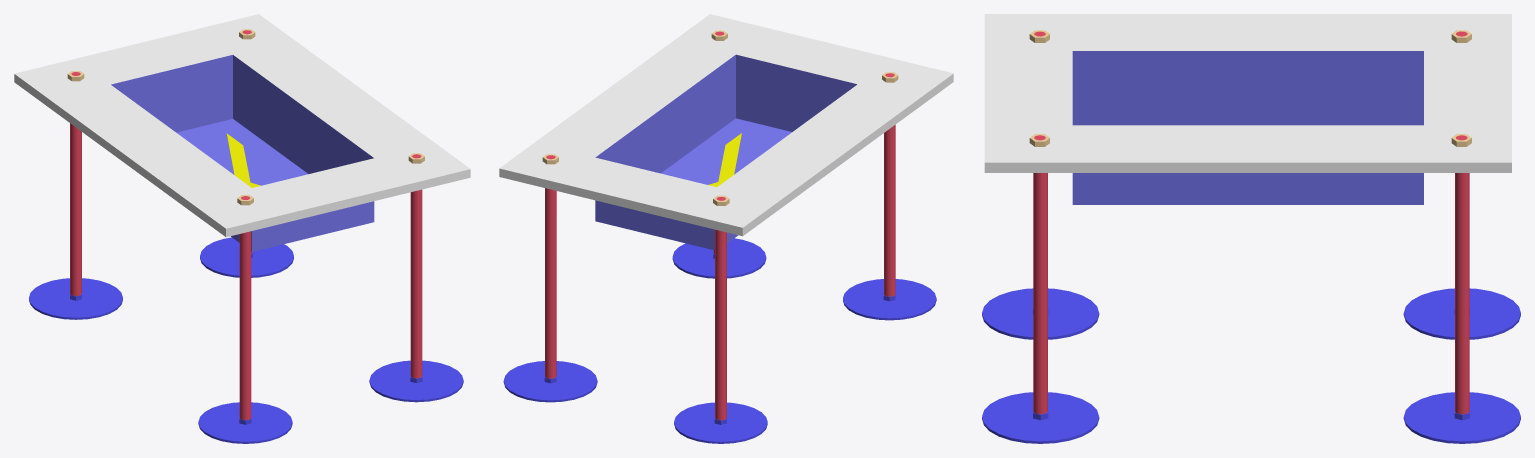
Rendered from marker_target_x.dae.
3 renders of one model, left to right at view 1: azimuth 30°, elevation 25°; view 2: azimuth 150°, elevation 25°; view 3: azimuth 270°, elevation 25°, orthographic. The views are drawn at different scales.
Parts seen in each view (by area): view 1: instance_1, instance_1_001, instance_5_004, instance_5_001, instance_5_010, instance_6, instance_6_001, instance_5_007, instance_6_003, instance_0; view 2: instance_1, instance_1_001, instance_5_004, instance_5_007, instance_5_010, instance_5_001, instance_6_003, instance_6_002, instance_6_001, instance_0; view 3: instance_1, instance_1_001, instance_5_007, instance_5_001, instance_5_004, instance_5_010, instance_6_002, instance_6.
Boxes of the visible parts, x1,y1,x2,y2 form: instance_1: (14, 14, 470, 237); instance_1_001: (111, 55, 374, 251); instance_5_004: (198, 402, 292, 443); instance_5_001: (369, 360, 463, 402); instance_5_010: (29, 278, 122, 319); instance_6: (410, 189, 422, 378); instance_6_001: (239, 231, 251, 420); instance_5_007: (200, 237, 293, 277); instance_6_003: (70, 123, 81, 295); instance_0: (226, 133, 260, 187); instance_1: (499, 14, 953, 236); instance_1_001: (595, 54, 856, 250); instance_5_004: (843, 279, 936, 320); instance_5_007: (503, 361, 597, 402); instance_5_010: (674, 402, 767, 443); instance_5_001: (672, 238, 766, 278); instance_6_003: (715, 229, 726, 420); instance_6_002: (545, 188, 556, 378); instance_6_001: (884, 125, 895, 296); instance_0: (708, 133, 741, 186); instance_1: (984, 14, 1511, 172); instance_1_001: (1072, 51, 1423, 204); instance_5_007: (1403, 392, 1520, 443); instance_5_001: (982, 392, 1099, 443); instance_5_004: (982, 288, 1099, 339); instance_5_010: (1403, 288, 1520, 339); instance_6_002: (1455, 173, 1469, 414); instance_6: (1033, 173, 1047, 414).
Size of the model in its own units: 0.6221 by 0.9201 by 0.53.
